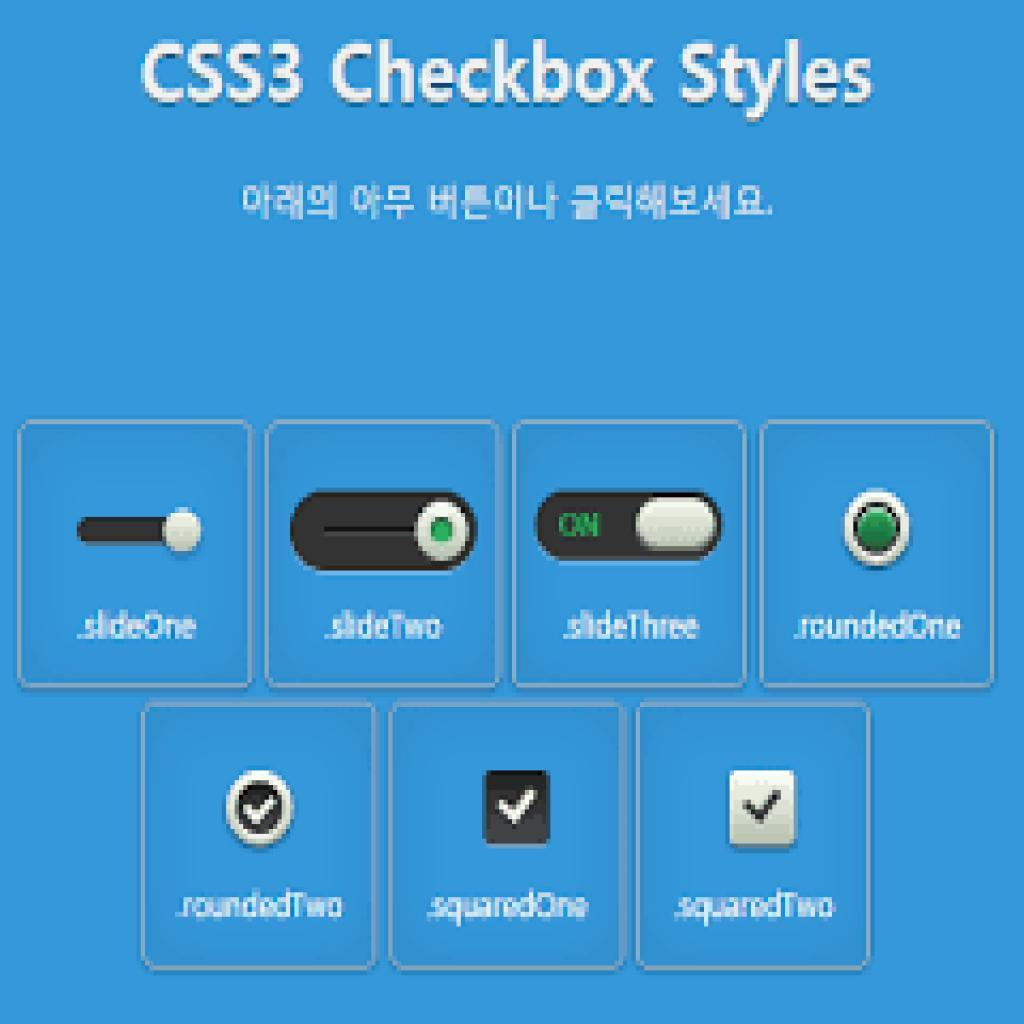checkbox: (727, 769, 799, 847), (483, 771, 553, 847)
radio: (224, 768, 298, 851), (842, 489, 911, 568)
switch: (288, 489, 480, 577), (536, 486, 727, 564), (76, 507, 204, 558)
